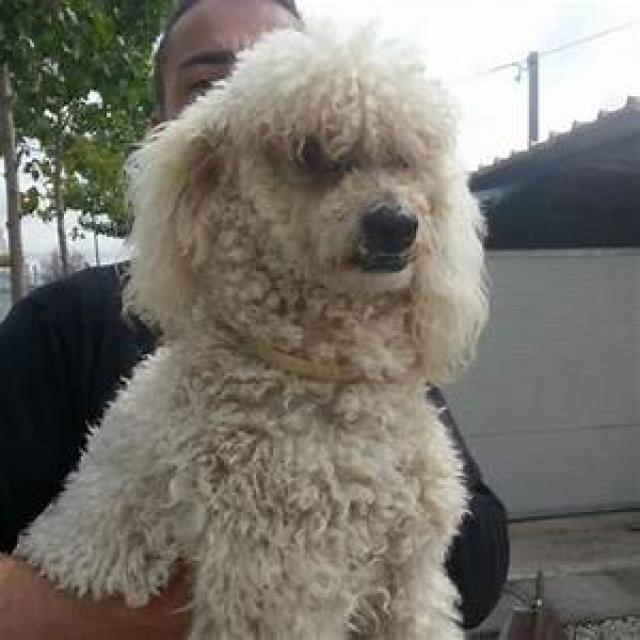dog: (15, 30, 510, 640)
